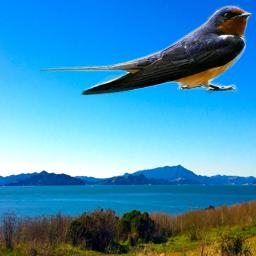Swallow: (39, 4, 252, 95)
